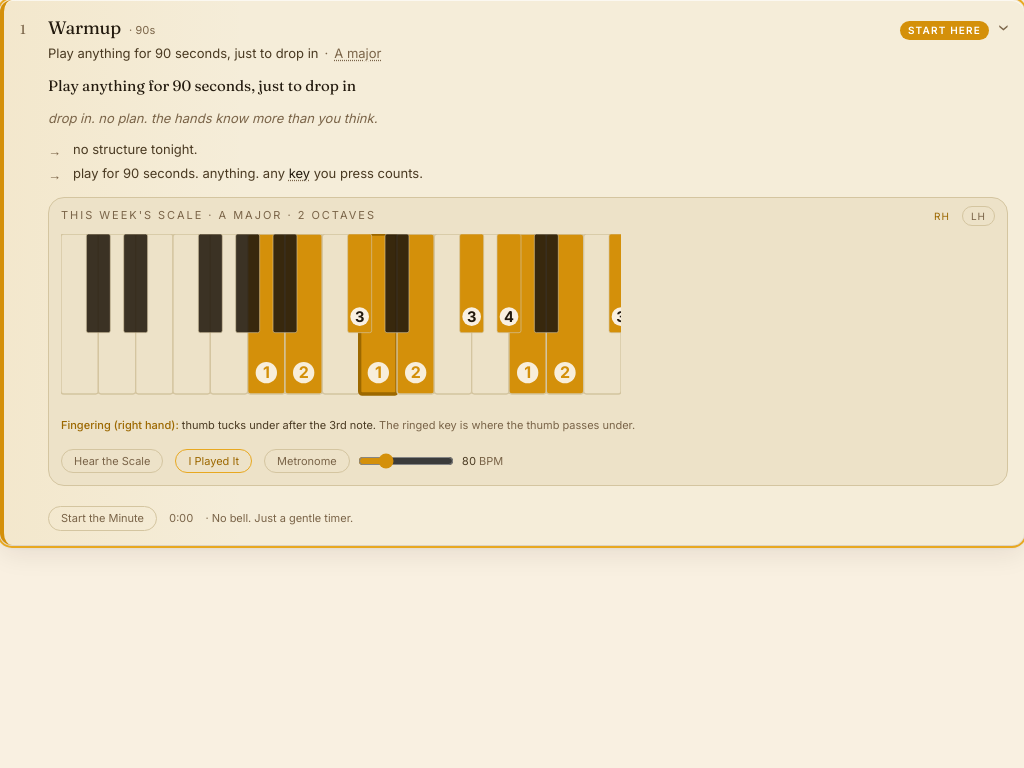
Scenario: "I Played It" — feedback lands ON the chip, and a rage-tap counts once › renders the live rep count on the chip itself, where the finger is
Click the button with test id "warmup-played-it" at (214, 461), box x1=175 y1=449 x2=252 y2=473
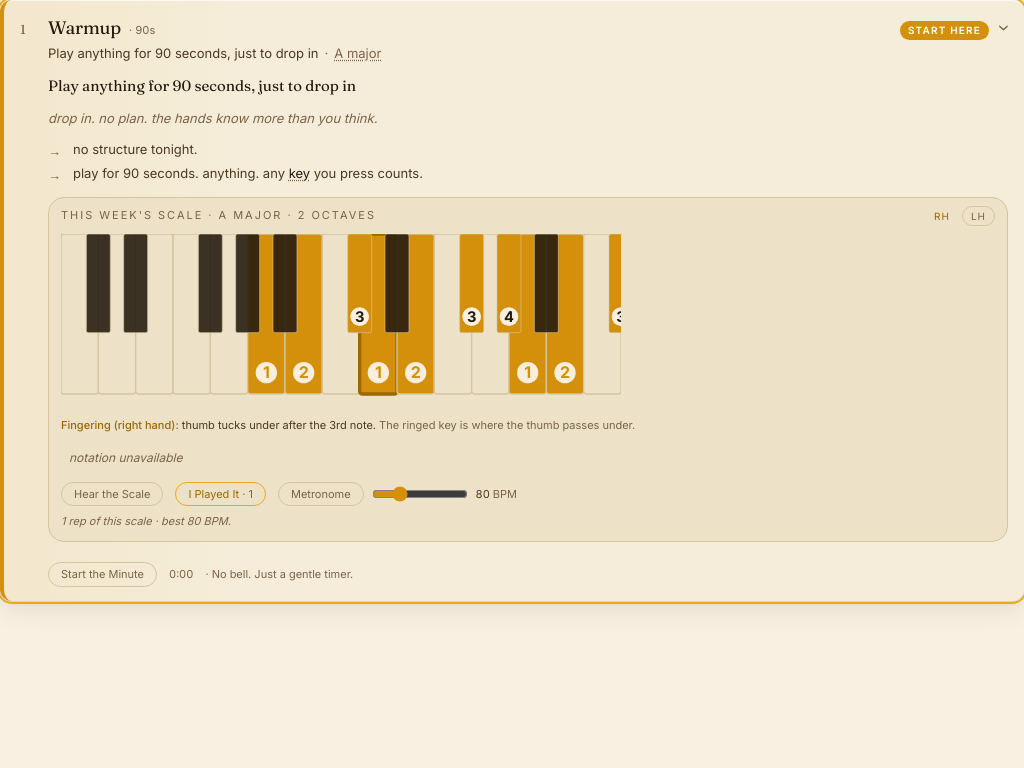
expect the button with test id "warmup-played-it" reads "I Played It · 1": met, box x1=175 y1=482 x2=266 y2=506
